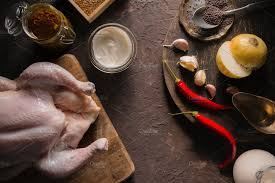Chicken: (5, 56, 96, 183)
Onion: (165, 39, 193, 52)
